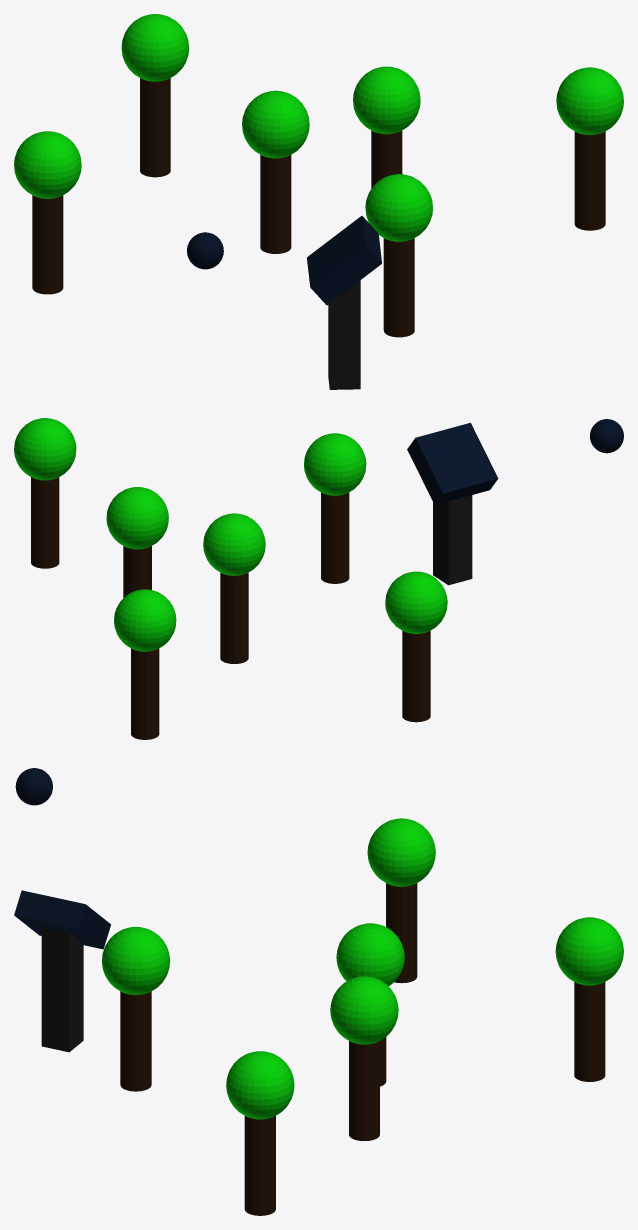
Rendered from exercise20016.obj.
3 views of the same model, one above another, from view 1: azimuth 30°, elevation 25°; view 2: azimuth 150°, elevation 25°; view 3: azimuth 270°, elevation 25° (orthographic). The views are drawn at different scales.
Parts seen in each view (by area): view 1: Cube.001, Sphere, Sphere.002, Sphere.003, Sphere.006, Sphere.005, Sphere.004, Cube, Cylinder.004, Cylinder.006, Cylinder.003, Cylinder.002 (+4 smaller); view 2: Cube.001, Cube, Sphere.002, Sphere.006, Sphere, Sphere.003, Sphere.005, Sphere.004, Cylinder.003, Cylinder.004, Cylinder.005, Cylinder.002 (+4 smaller); view 3: Cube, Sphere.006, Sphere, Sphere.003, Sphere.005, Sphere.004, Sphere.002, Cube.001, Cylinder.004, Cylinder.003, Cylinder.005, Cylinder (+3 smaller).
Part boxes in pixels (x1,y1,x2,y2): Cube.001: (307, 216, 381, 305); Sphere: (353, 66, 420, 134); Sphere.002: (242, 90, 309, 158); Sphere.003: (556, 67, 623, 134); Sphere.006: (14, 131, 81, 198); Sphere.005: (121, 14, 189, 81); Sphere.004: (365, 174, 432, 241); Cube: (328, 280, 360, 389); Cylinder.004: (383, 238, 414, 337); Cylinder.006: (32, 195, 63, 294); Cylinder.003: (574, 131, 605, 230); Cylinder.002: (260, 155, 291, 253); Cube.001: (407, 422, 498, 504); Cube: (433, 495, 472, 585); Sphere.002: (203, 513, 265, 575); Sphere.006: (385, 571, 447, 633); Sphere: (106, 487, 168, 549); Sphere.003: (14, 418, 76, 480); Sphere.005: (114, 589, 176, 651); Sphere.004: (304, 433, 366, 495); Cylinder.003: (31, 477, 59, 568); Cylinder.004: (321, 492, 349, 583); Cylinder.005: (131, 648, 159, 739); Cylinder.002: (220, 572, 248, 663); Cube: (41, 927, 83, 1052); Sphere.006: (367, 818, 435, 886); Sphere: (330, 976, 398, 1044); Sphere.003: (226, 1051, 294, 1119); Sphere.005: (555, 917, 623, 985); Sphere.004: (102, 926, 170, 994); Sphere.002: (336, 923, 404, 986); Cube.001: (14, 890, 110, 949); Cylinder.004: (120, 991, 151, 1091); Cylinder.003: (244, 1116, 275, 1215); Cylinder.005: (574, 982, 605, 1081); Cylinder: (349, 1041, 379, 1140).
Size of what is drawn, in the model's own units: 40.53 by 14.04 by 39.13.
